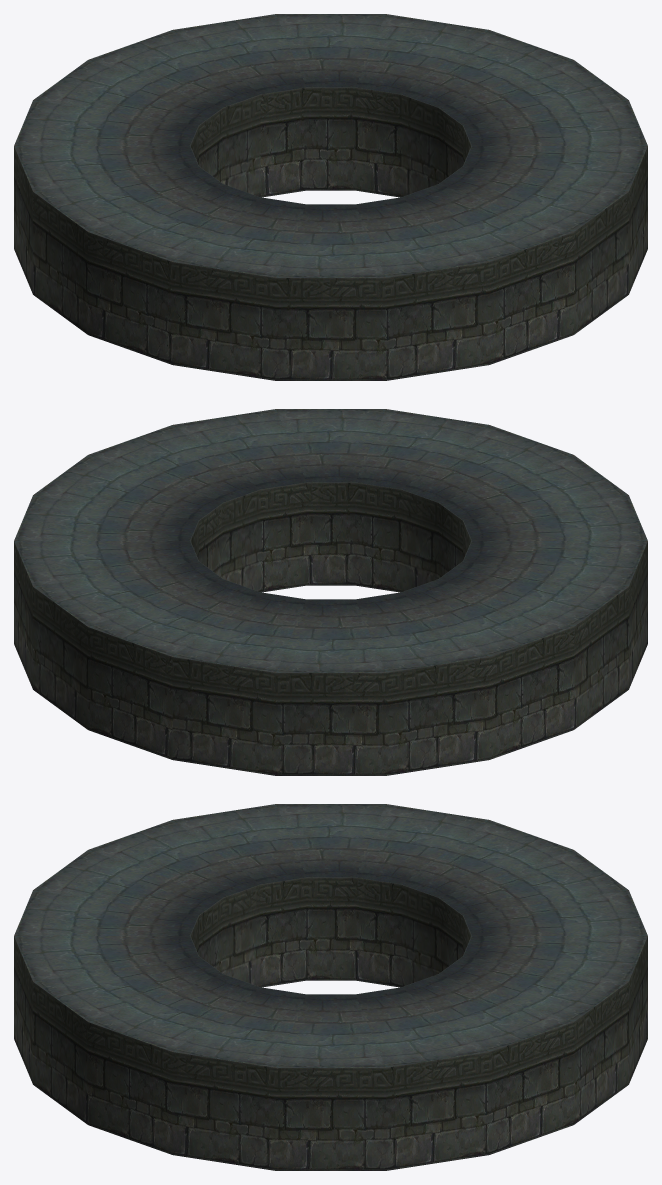
The model's file is environment_Building_shitai_005_a.FBX.
3 views of the same model, one above another, from view 1: azimuth 30°, elevation 25°; view 2: azimuth 150°, elevation 25°; view 3: azimuth 270°, elevation 25° (orthographic).
Visible parts, largest first — view 1: environment_Building_shitai_005_b, environment_Building_shitai_005_a; view 2: environment_Building_shitai_005_b, environment_Building_shitai_005_a; view 3: environment_Building_shitai_005_b, environment_Building_shitai_005_a.
Part boxes in pixels (bbox=[...]): environment_Building_shitai_005_b: bbox=[14, 14, 647, 277]; environment_Building_shitai_005_a: bbox=[14, 87, 647, 380]; environment_Building_shitai_005_b: bbox=[14, 409, 647, 672]; environment_Building_shitai_005_a: bbox=[14, 482, 647, 775]; environment_Building_shitai_005_b: bbox=[14, 804, 647, 1067]; environment_Building_shitai_005_a: bbox=[14, 877, 647, 1170].
Bounding box in the file's own units: 1436 × 262 × 1458.
